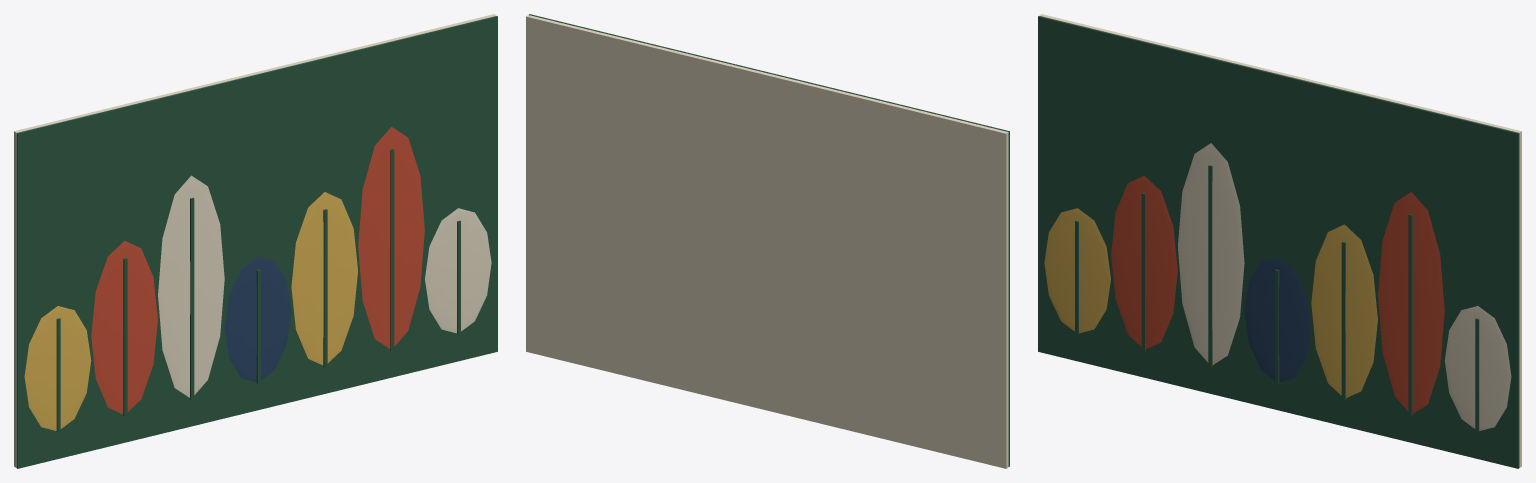
File: mural_leaves.glb
The picture shows the model from 3 angles, left to right: view 1: azimuth 30°, elevation 25°; view 2: azimuth 150°, elevation 25°; view 3: azimuth 330°, elevation 25°; orthographic projection.
Parts seen in each view (by area): view 1: mural_leaves; view 2: mural_leaves; view 3: mural_leaves.
Boxes of the visible parts, box(x1,y1,x2,y2) form: mural_leaves: box(14, 14, 497, 468); mural_leaves: box(526, 14, 1009, 468); mural_leaves: box(1038, 14, 1521, 468).
Bounding box in the file's own units: 3.6 × 2.4 × 0.066.
